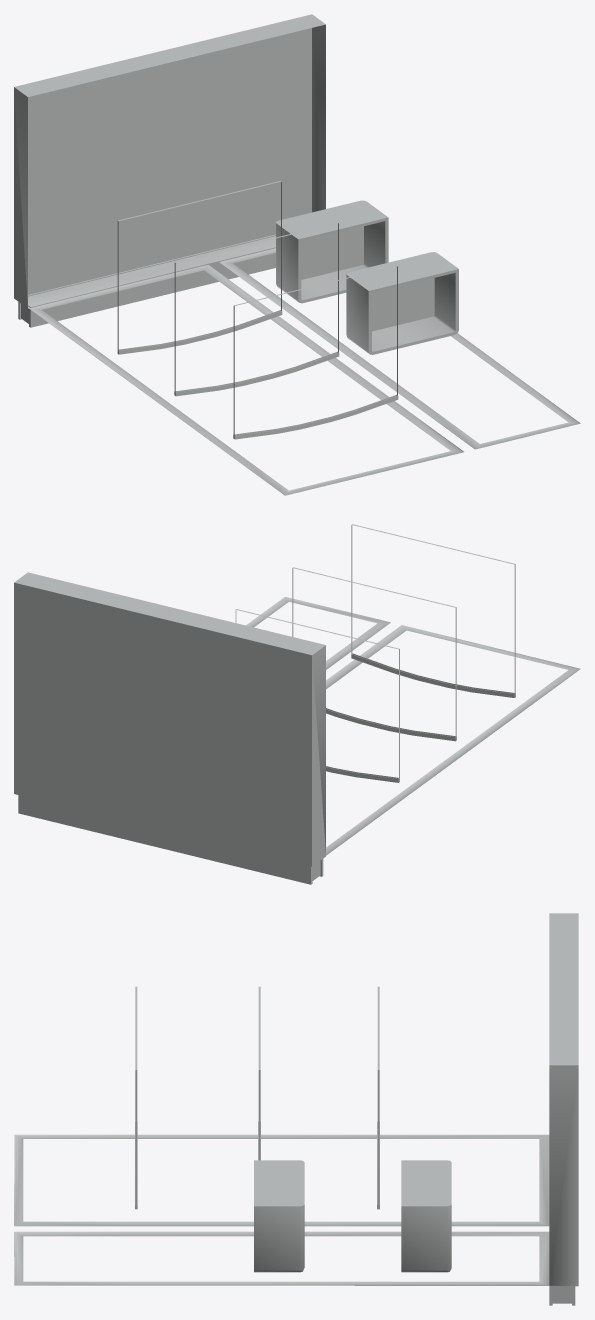
Rendered from FridgebodymeshFridgeD4_0_GeomSubset_1.obj.
3 views of the same model, one above another, from view 1: azimuth 30°, elevation 25°; view 2: azimuth 150°, elevation 25°; view 3: azimuth 270°, elevation 25° (orthographic). The views are drawn at different scales.
Visible parts, largest first — view 1: FridgebodymeshFridgeD4_0_GeomSubset_1; view 2: FridgebodymeshFridgeD4_0_GeomSubset_1; view 3: FridgebodymeshFridgeD4_0_GeomSubset_1.
Boxes of the visible parts, x1,y1,x2,y2 form: FridgebodymeshFridgeD4_0_GeomSubset_1: (14, 14, 580, 495); FridgebodymeshFridgeD4_0_GeomSubset_1: (14, 524, 580, 884); FridgebodymeshFridgeD4_0_GeomSubset_1: (14, 913, 578, 1305).
Size of the model in its own units: 1.13 by 0.838 by 1.78.
